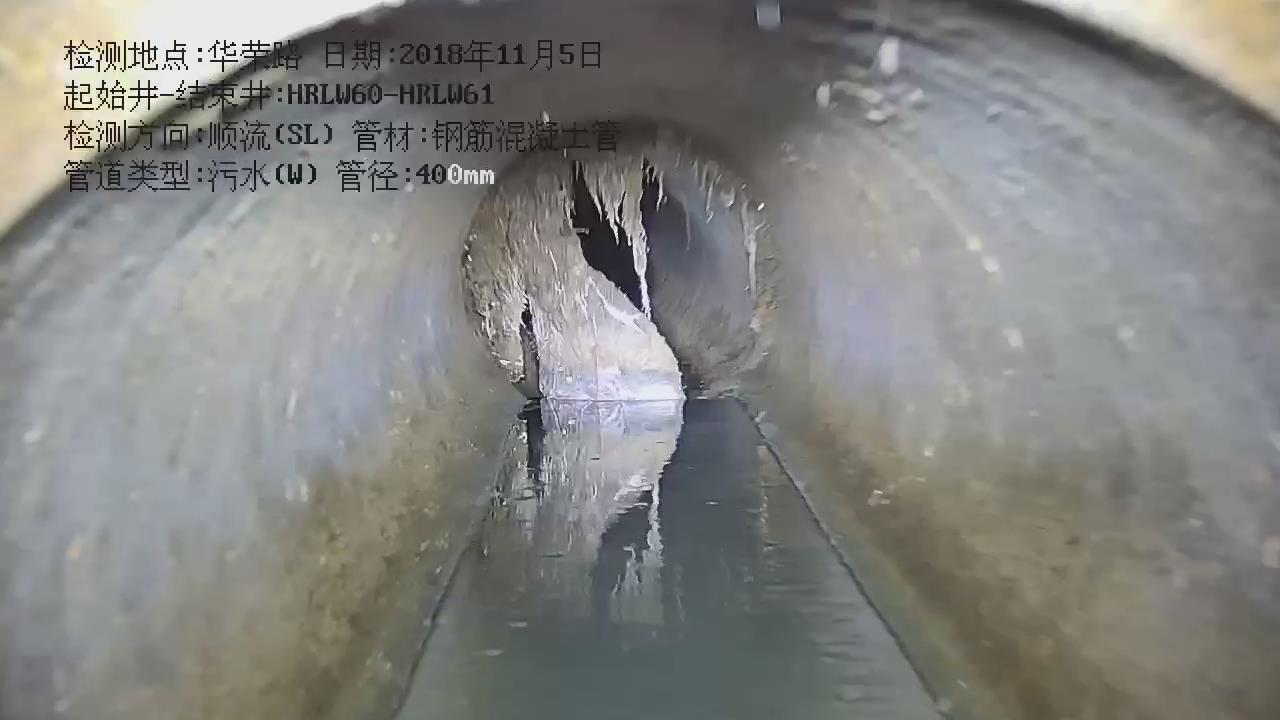SG: (461, 131, 768, 401)
